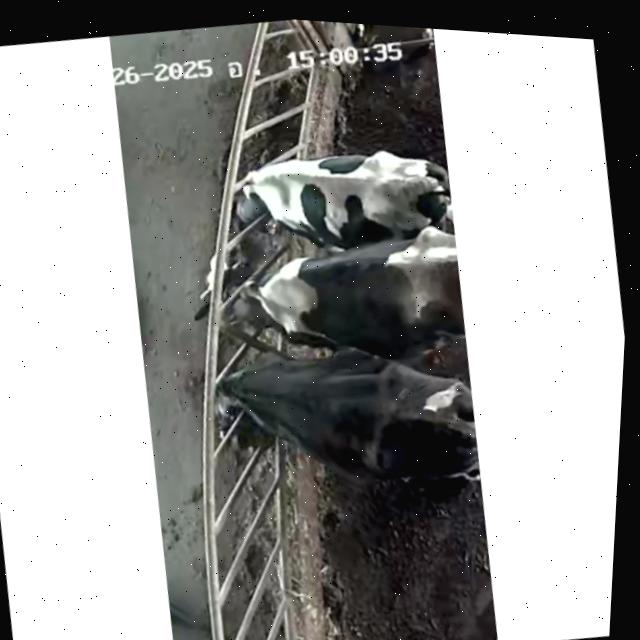eat: (164, 338, 356, 467), (161, 232, 350, 363), (175, 131, 340, 249)
